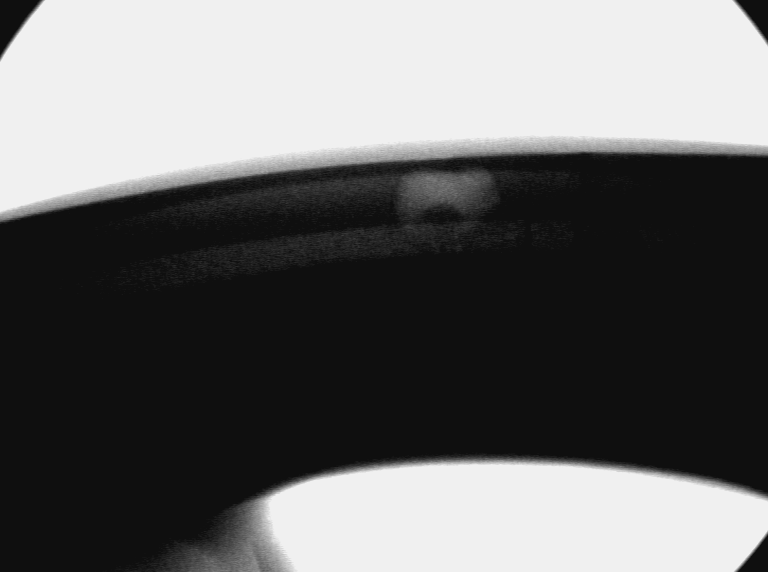defect: (392, 165, 503, 249)
